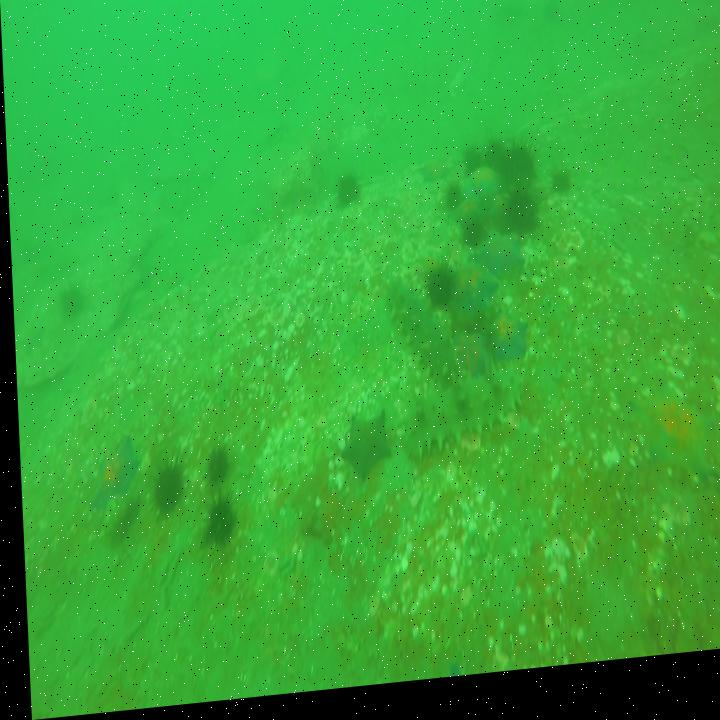echinus: (142, 456, 184, 523), (194, 492, 236, 559), (421, 259, 454, 324), (504, 194, 540, 251), (504, 148, 537, 193), (455, 221, 485, 265), (483, 142, 511, 188), (55, 279, 82, 323), (201, 445, 227, 490), (332, 173, 354, 215), (440, 187, 463, 220), (457, 153, 477, 182), (550, 179, 568, 209)
holothurian: (390, 371, 526, 476), (379, 274, 459, 399)
starfish: (619, 387, 718, 501), (333, 417, 388, 491), (88, 440, 141, 515), (446, 266, 491, 332), (485, 319, 528, 376), (489, 241, 520, 292)
